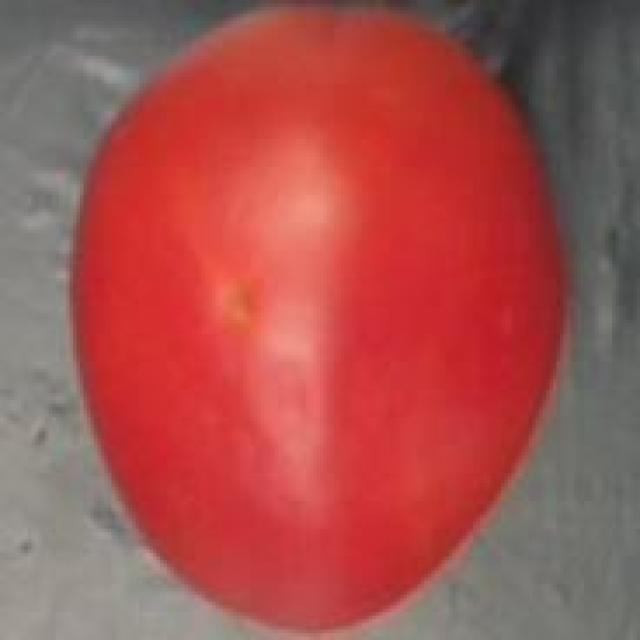ripe tomato: (59, 3, 571, 640)
